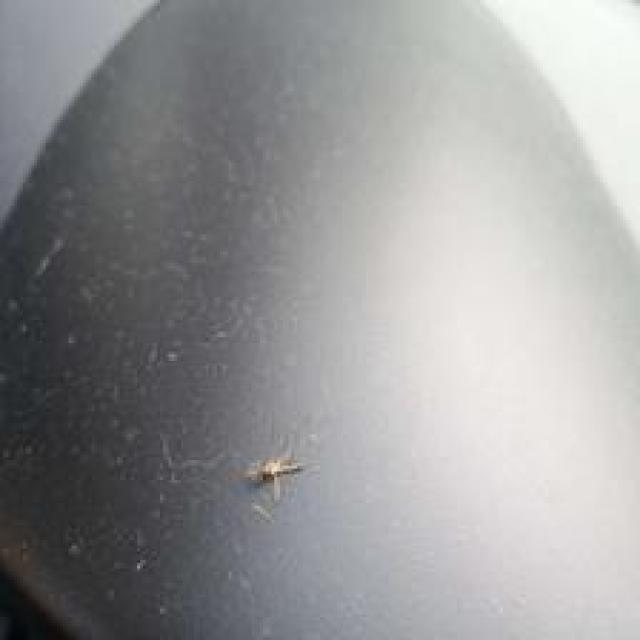Culex: (244, 453, 304, 484)
